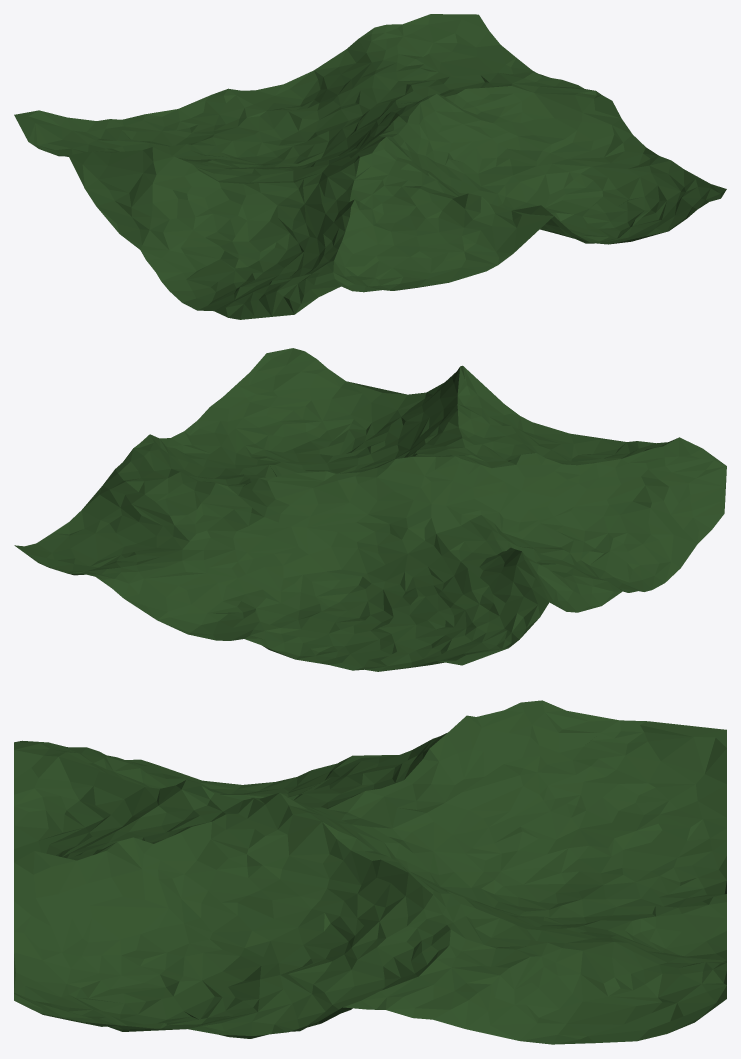
Rendered from SM_landscape_05.fbx.
3 renders of one model, top to bottom at view 1: azimuth 30°, elevation 25°; view 2: azimuth 150°, elevation 25°; view 3: azimuth 270°, elevation 25°, orthographic. The views are drawn at different scales.
Visible parts, largest first — view 1: landscape_05; view 2: landscape_05; view 3: landscape_05.
Part boxes in pixels (bbox=[...]): landscape_05: bbox=[14, 14, 726, 319]; landscape_05: bbox=[14, 348, 726, 671]; landscape_05: bbox=[14, 700, 726, 1044].
Size of the model in its own units: 2224 by 399 by 2224.
